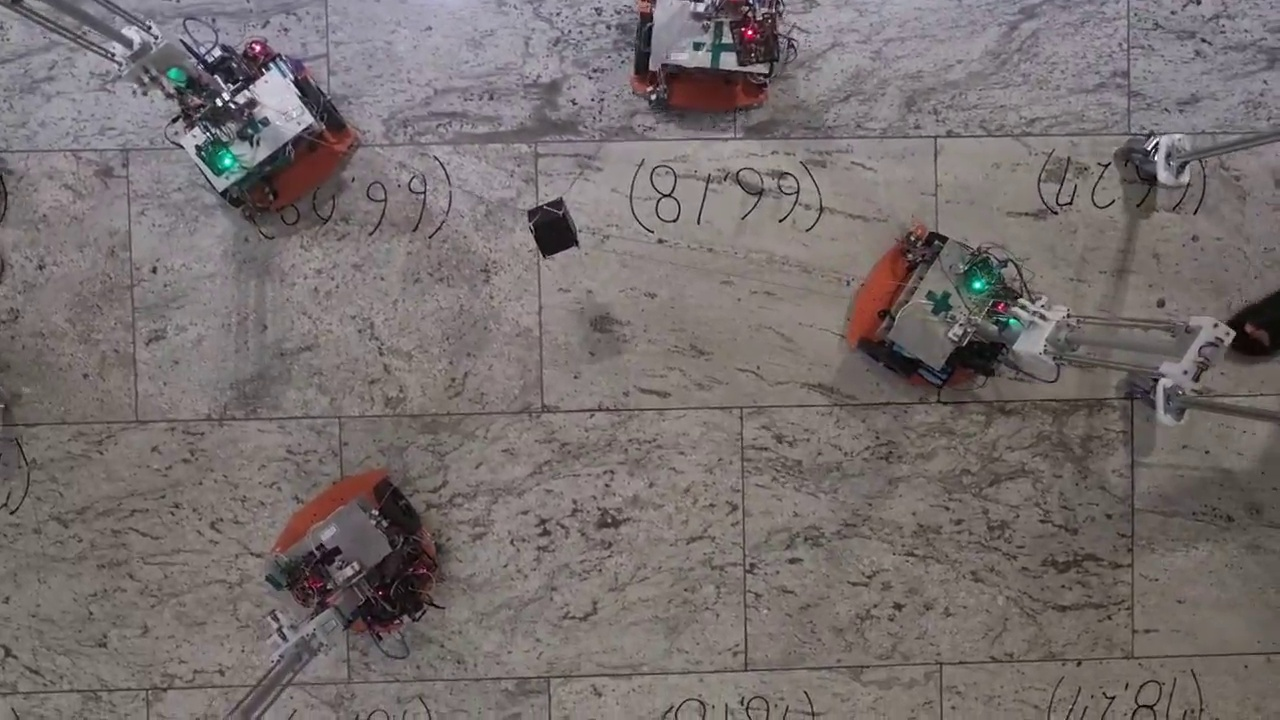e0: (527, 197, 579, 260)
r1: (858, 231, 993, 381)
r2: (634, 12, 776, 88)
r3: (195, 73, 348, 209)
r4: (281, 479, 422, 621)
y_+_axis_vector: (542, 403, 939, 413)
y_-_axis_vector: (137, 413, 542, 422)
